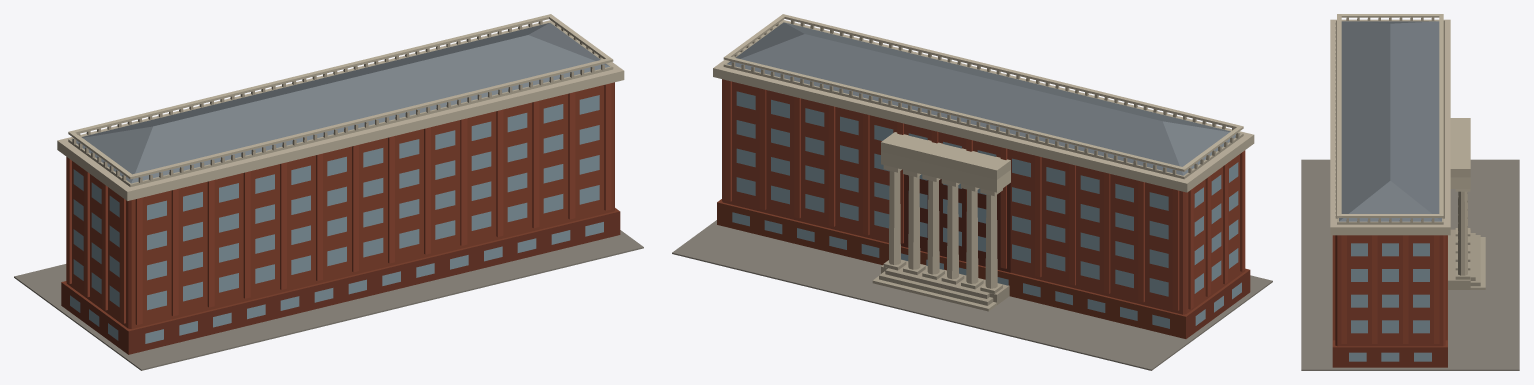
3 renders of one model, left to right at view 1: azimuth 30°, elevation 25°; view 2: azimuth 150°, elevation 25°; view 3: azimuth 270°, elevation 25°, orthographic. The views are drawn at different scales.
Visible parts, largest first — view 1: queens-borough-hall-lod0; view 2: queens-borough-hall-lod0; view 3: queens-borough-hall-lod0.
Boxes of the visible parts, bbox=[...] form: queens-borough-hall-lod0: bbox=[14, 14, 643, 370]; queens-borough-hall-lod0: bbox=[672, 14, 1272, 370]; queens-borough-hall-lod0: bbox=[1301, 14, 1519, 370].
Bounding box in the file's own units: 114 × 41.4 × 50.01.
